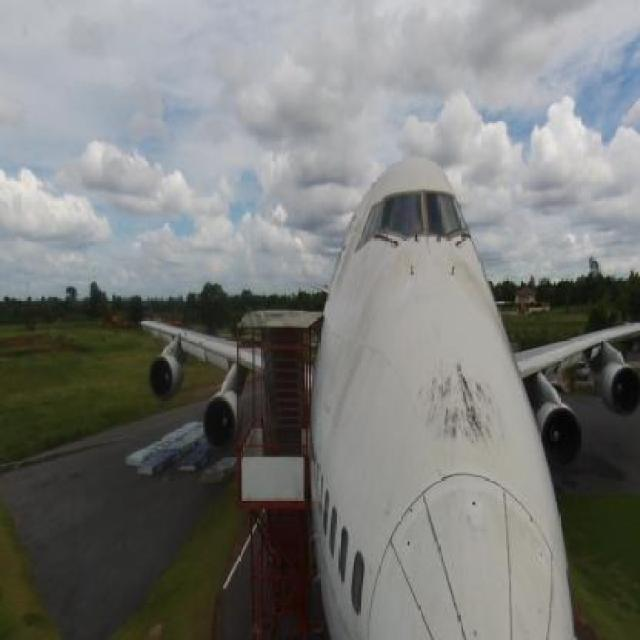Rust: (422, 353, 502, 465), (460, 255, 497, 340)
Scartch: (331, 250, 382, 404)
